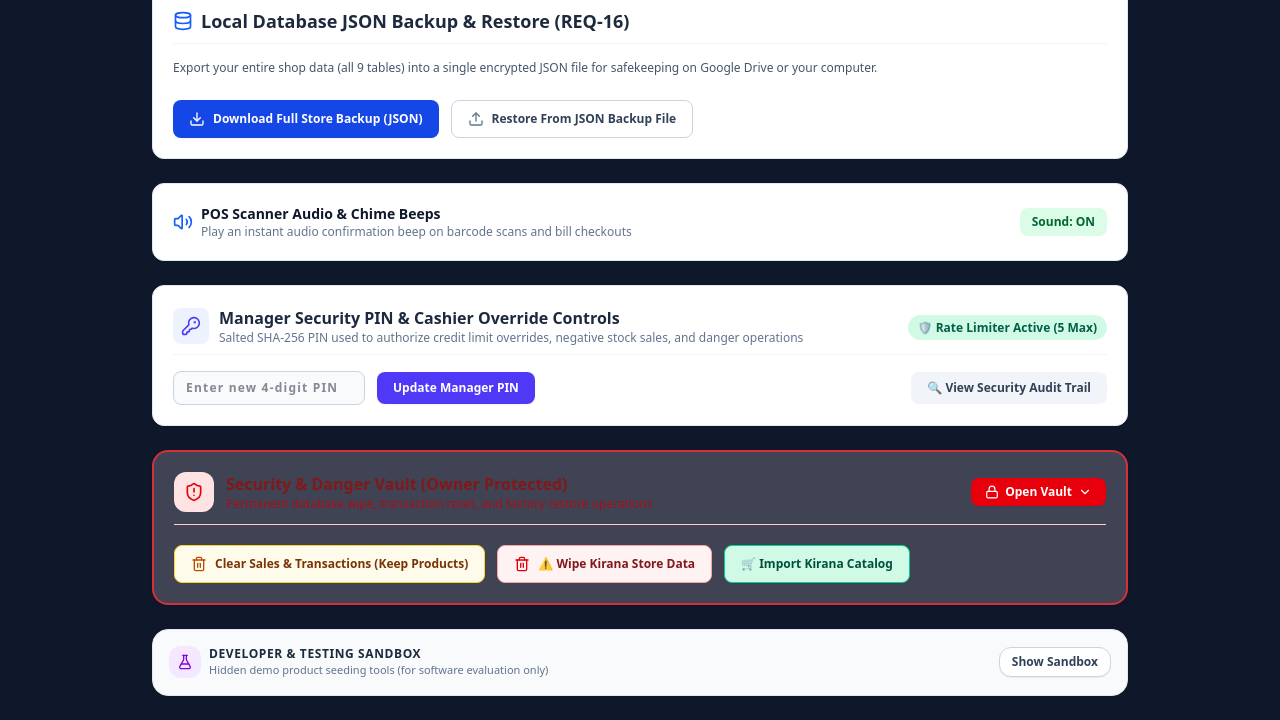
Test case: Iteration 6: Security & Danger Vault Isolation & Full System Regression › renders Danger Vault with red-border container collapsed by default, and expands on click
This screenshot has width=1280, height=720.
(page scrolled)
Expected: the element with test id "danger-vault-container" is shown, [152,450,1128,605]
// Click toggle to open
Click the button with test id "toggle-danger-vault-btn": [1039, 492] box [971,478,1106,506]
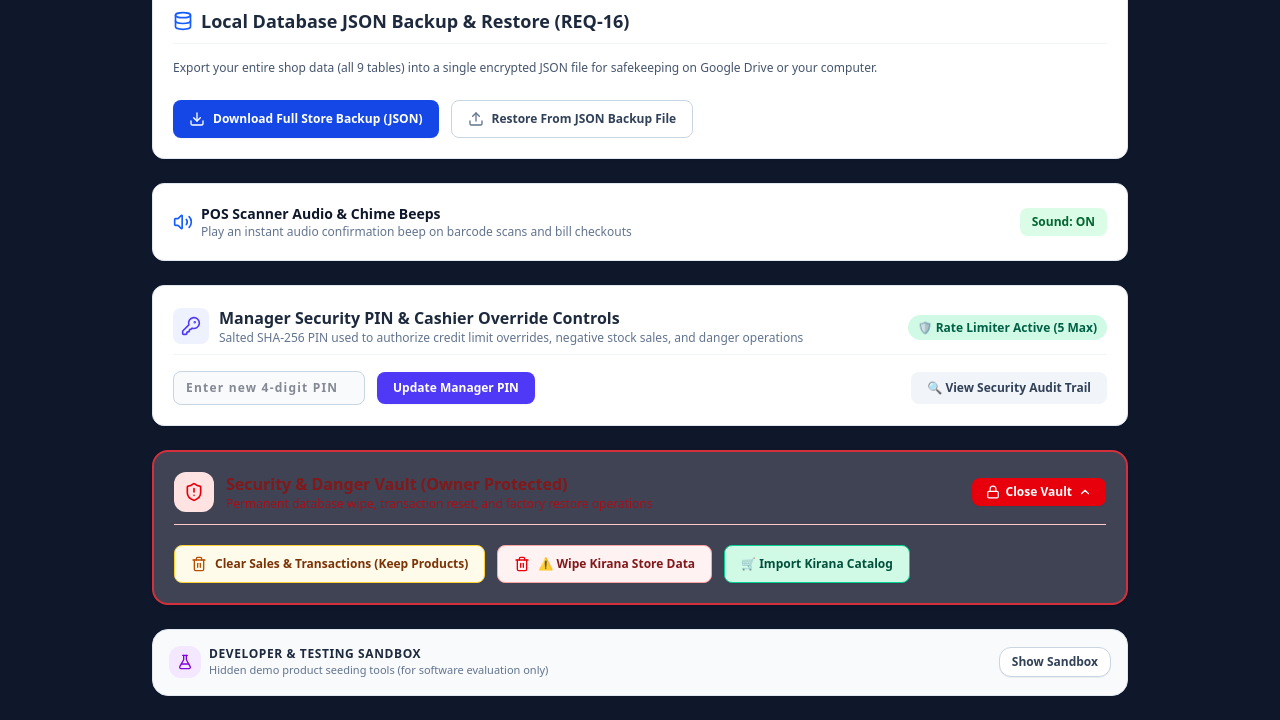
Expected: the button with test id "toggle-danger-vault-btn" reads "Close Vault", [972,478,1106,506]
